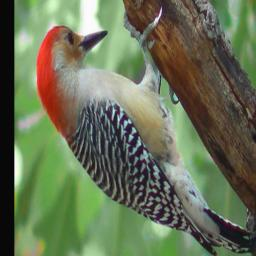Woodpecker: (32, 5, 256, 256)
